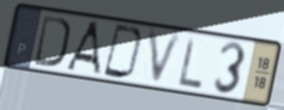3: (212, 40, 248, 97)
A: (64, 20, 103, 78)
D: (100, 22, 146, 82), (33, 13, 72, 70)
L: (177, 34, 205, 91)
V: (145, 26, 186, 89)
